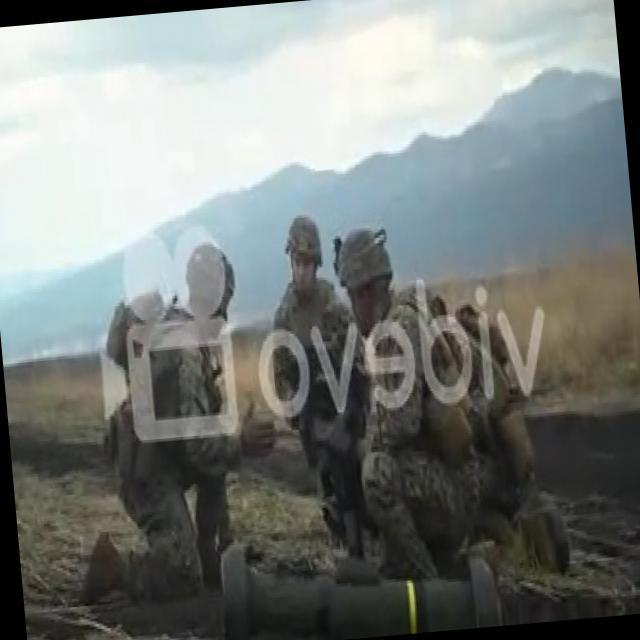rocket: (220, 519, 504, 640)
